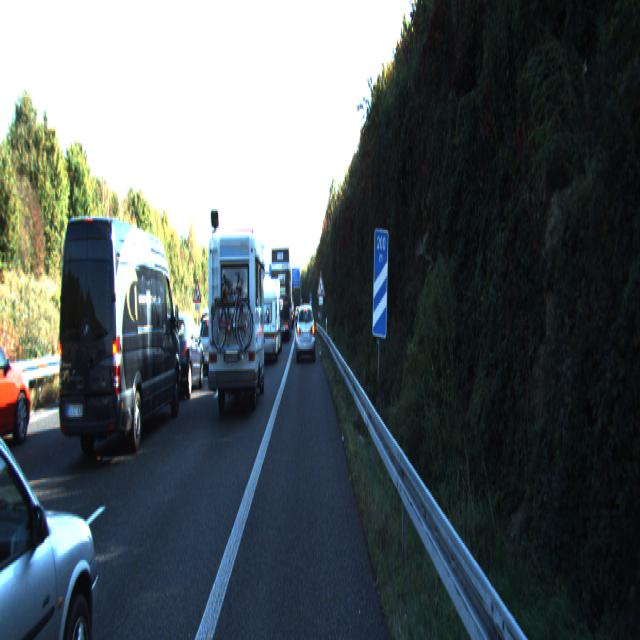Car: (57, 211, 181, 472), (0, 366, 104, 638), (206, 231, 267, 418), (0, 321, 35, 454), (156, 311, 204, 399), (252, 274, 280, 364), (272, 243, 292, 339), (296, 301, 315, 361)
